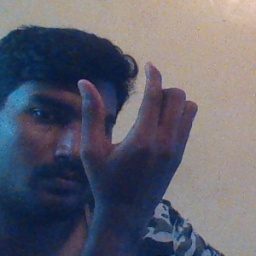U: (74, 54, 199, 199)
